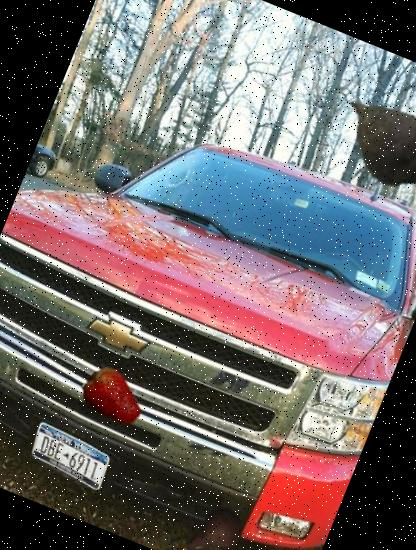Beetroot: (311, 63, 416, 213)
Pear: (173, 493, 252, 550)
Strawberry: (71, 356, 156, 440)
